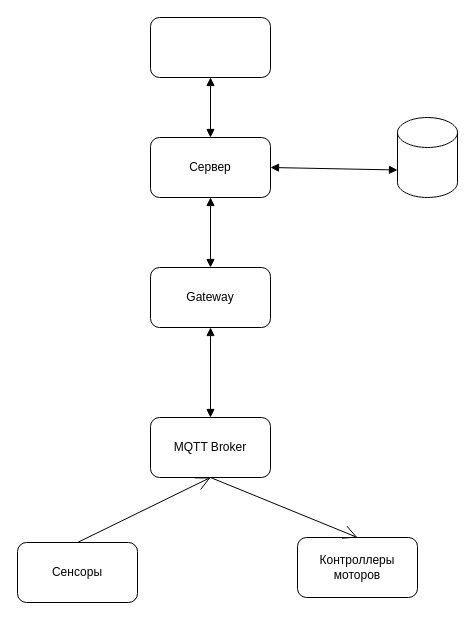
Image size: 475x620. Some labels were removed from this diagram. The centre of each missing label's shape, as x and y in pixels:
MySQL: the point at 427,157
Клиент приложение: the point at 210,47
